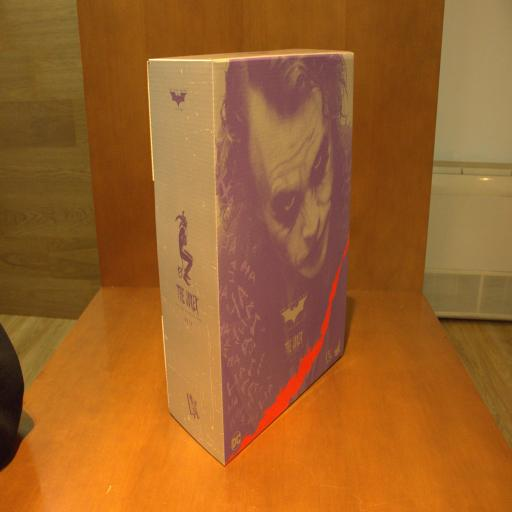Joker: (145, 48, 353, 468)
